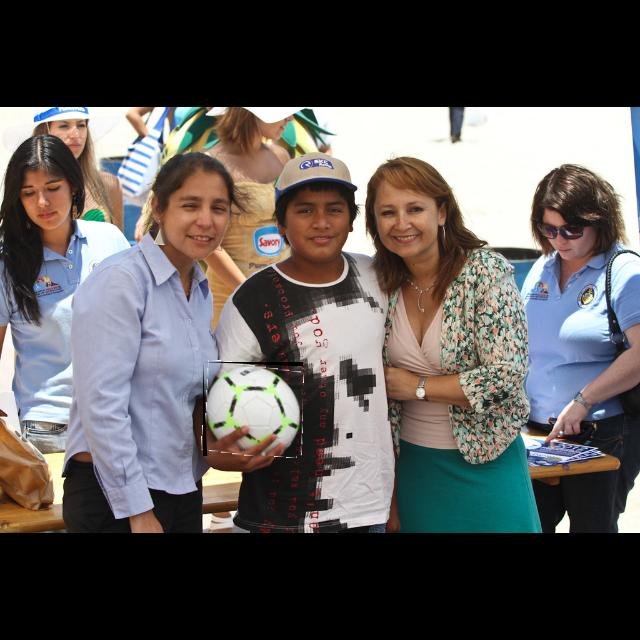Football: (203, 362, 303, 456)
